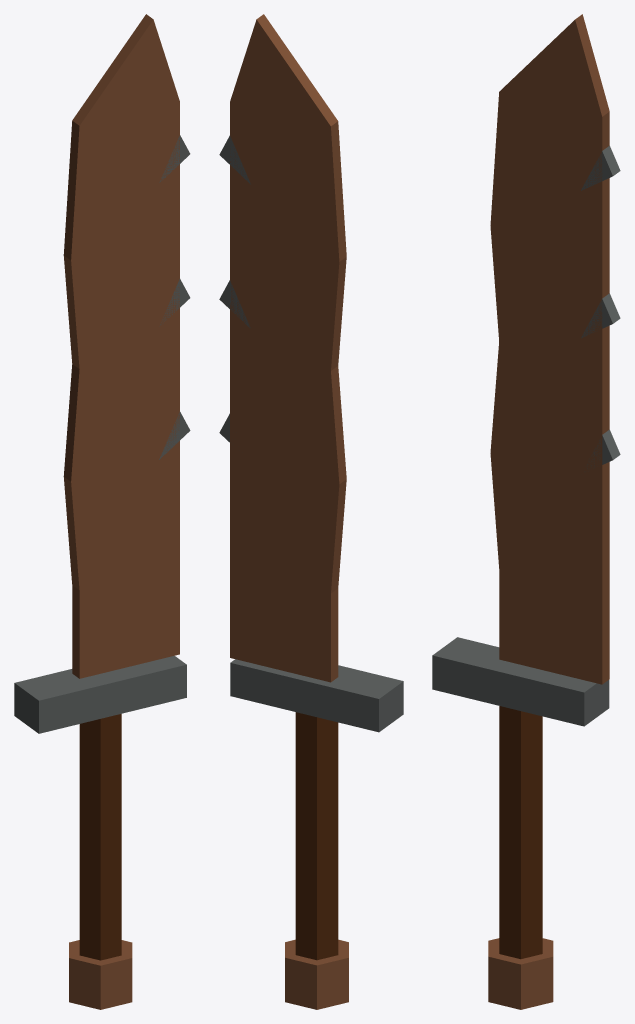
File: sword_carver.glb
The picture shows the model from 3 angles, left to right: view 1: azimuth 30°, elevation 25°; view 2: azimuth 150°, elevation 25°; view 3: azimuth 330°, elevation 25°; orthographic projection. The views are drawn at different scales.
Visible parts, largest first — view 1: sword_carver; view 2: sword_carver; view 3: sword_carver.
Boxes of the visible parts, bbox=[...] form: sword_carver: bbox=[14, 14, 190, 1009]; sword_carver: bbox=[219, 14, 403, 1009]; sword_carver: bbox=[432, 14, 620, 1009].
Size of the model in its own units: 0.155 by 0.87 by 0.052.
